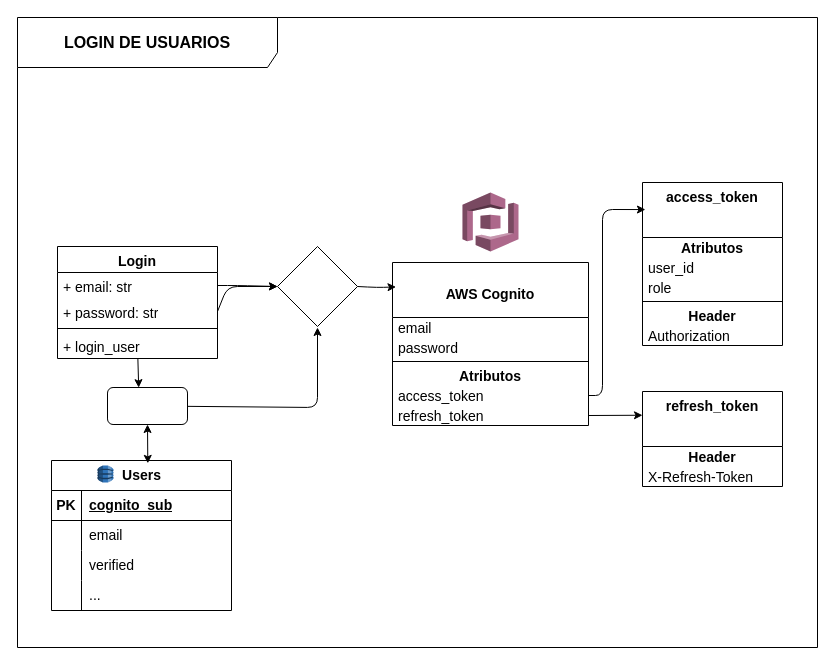
This 835x665 diagram has some shape labels left out. The shapes that lost their labels are listed below. From the top down, each one's box as (x1, y1, x2, y2) in pixels, then its label:
(276, 246, 358, 326): OK
(106, 386, 188, 424): *email *verified
